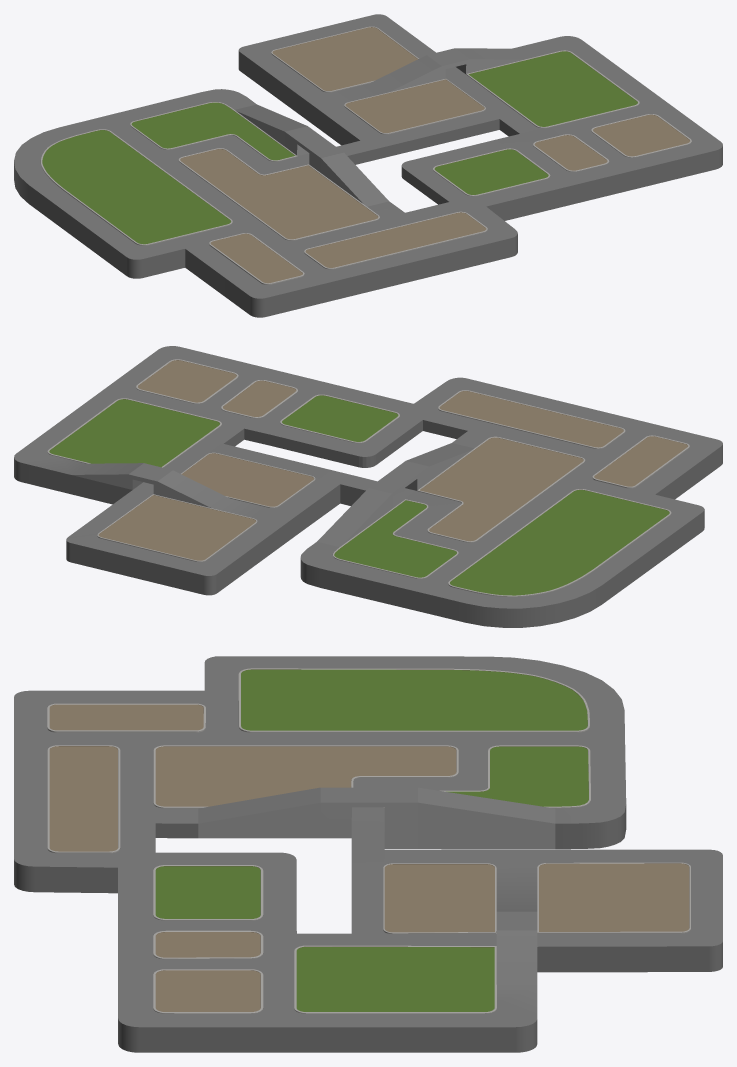
The model's file is track1.fbx.
3 views of the same model, one above another, from view 1: azimuth 30°, elevation 25°; view 2: azimuth 150°, elevation 25°; view 3: azimuth 270°, elevation 25° (orthographic). The views are drawn at different scales.
Parts seen in each view (by area): view 1: polySurface135; view 2: polySurface135; view 3: polySurface135.
Part boxes in pixels (left/top/right/bottom): polySurface135: left=14, top=14, right=722, bottom=317; polySurface135: left=14, top=346, right=722, bottom=627; polySurface135: left=14, top=656, right=722, bottom=1052.
Bounding box in the file's own units: 18931 × 1113 × 15289.
